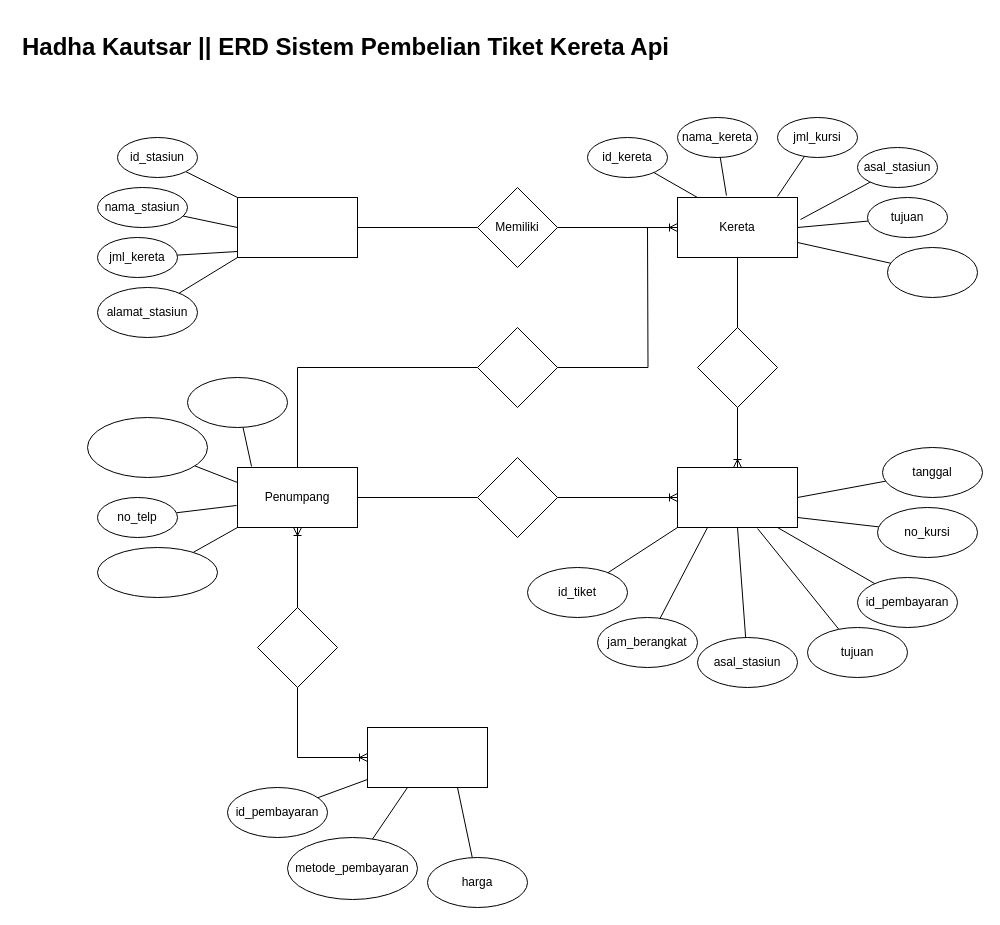
Image size: 1000x925. Some labels were removed from this diagram. The centre of each missing label's shape, as x and y in pixels:
"alamat_penumpang" belongs at (x=157, y=572).
"Bayar" belongs at (x=297, y=647).
"Cek" belongs at (x=517, y=367).
"id_penumpang" belongs at (x=237, y=402).
"keberangkatan" belongs at (x=932, y=272).
"Milik" belongs at (x=737, y=367).
"nama_penumpang" belongs at (x=147, y=447).
"Pembayaran" belongs at (x=427, y=757).
"Pesan" belongs at (x=517, y=497).
"Stasiun" belongs at (x=297, y=227).
"Tiket" belongs at (x=737, y=497).
